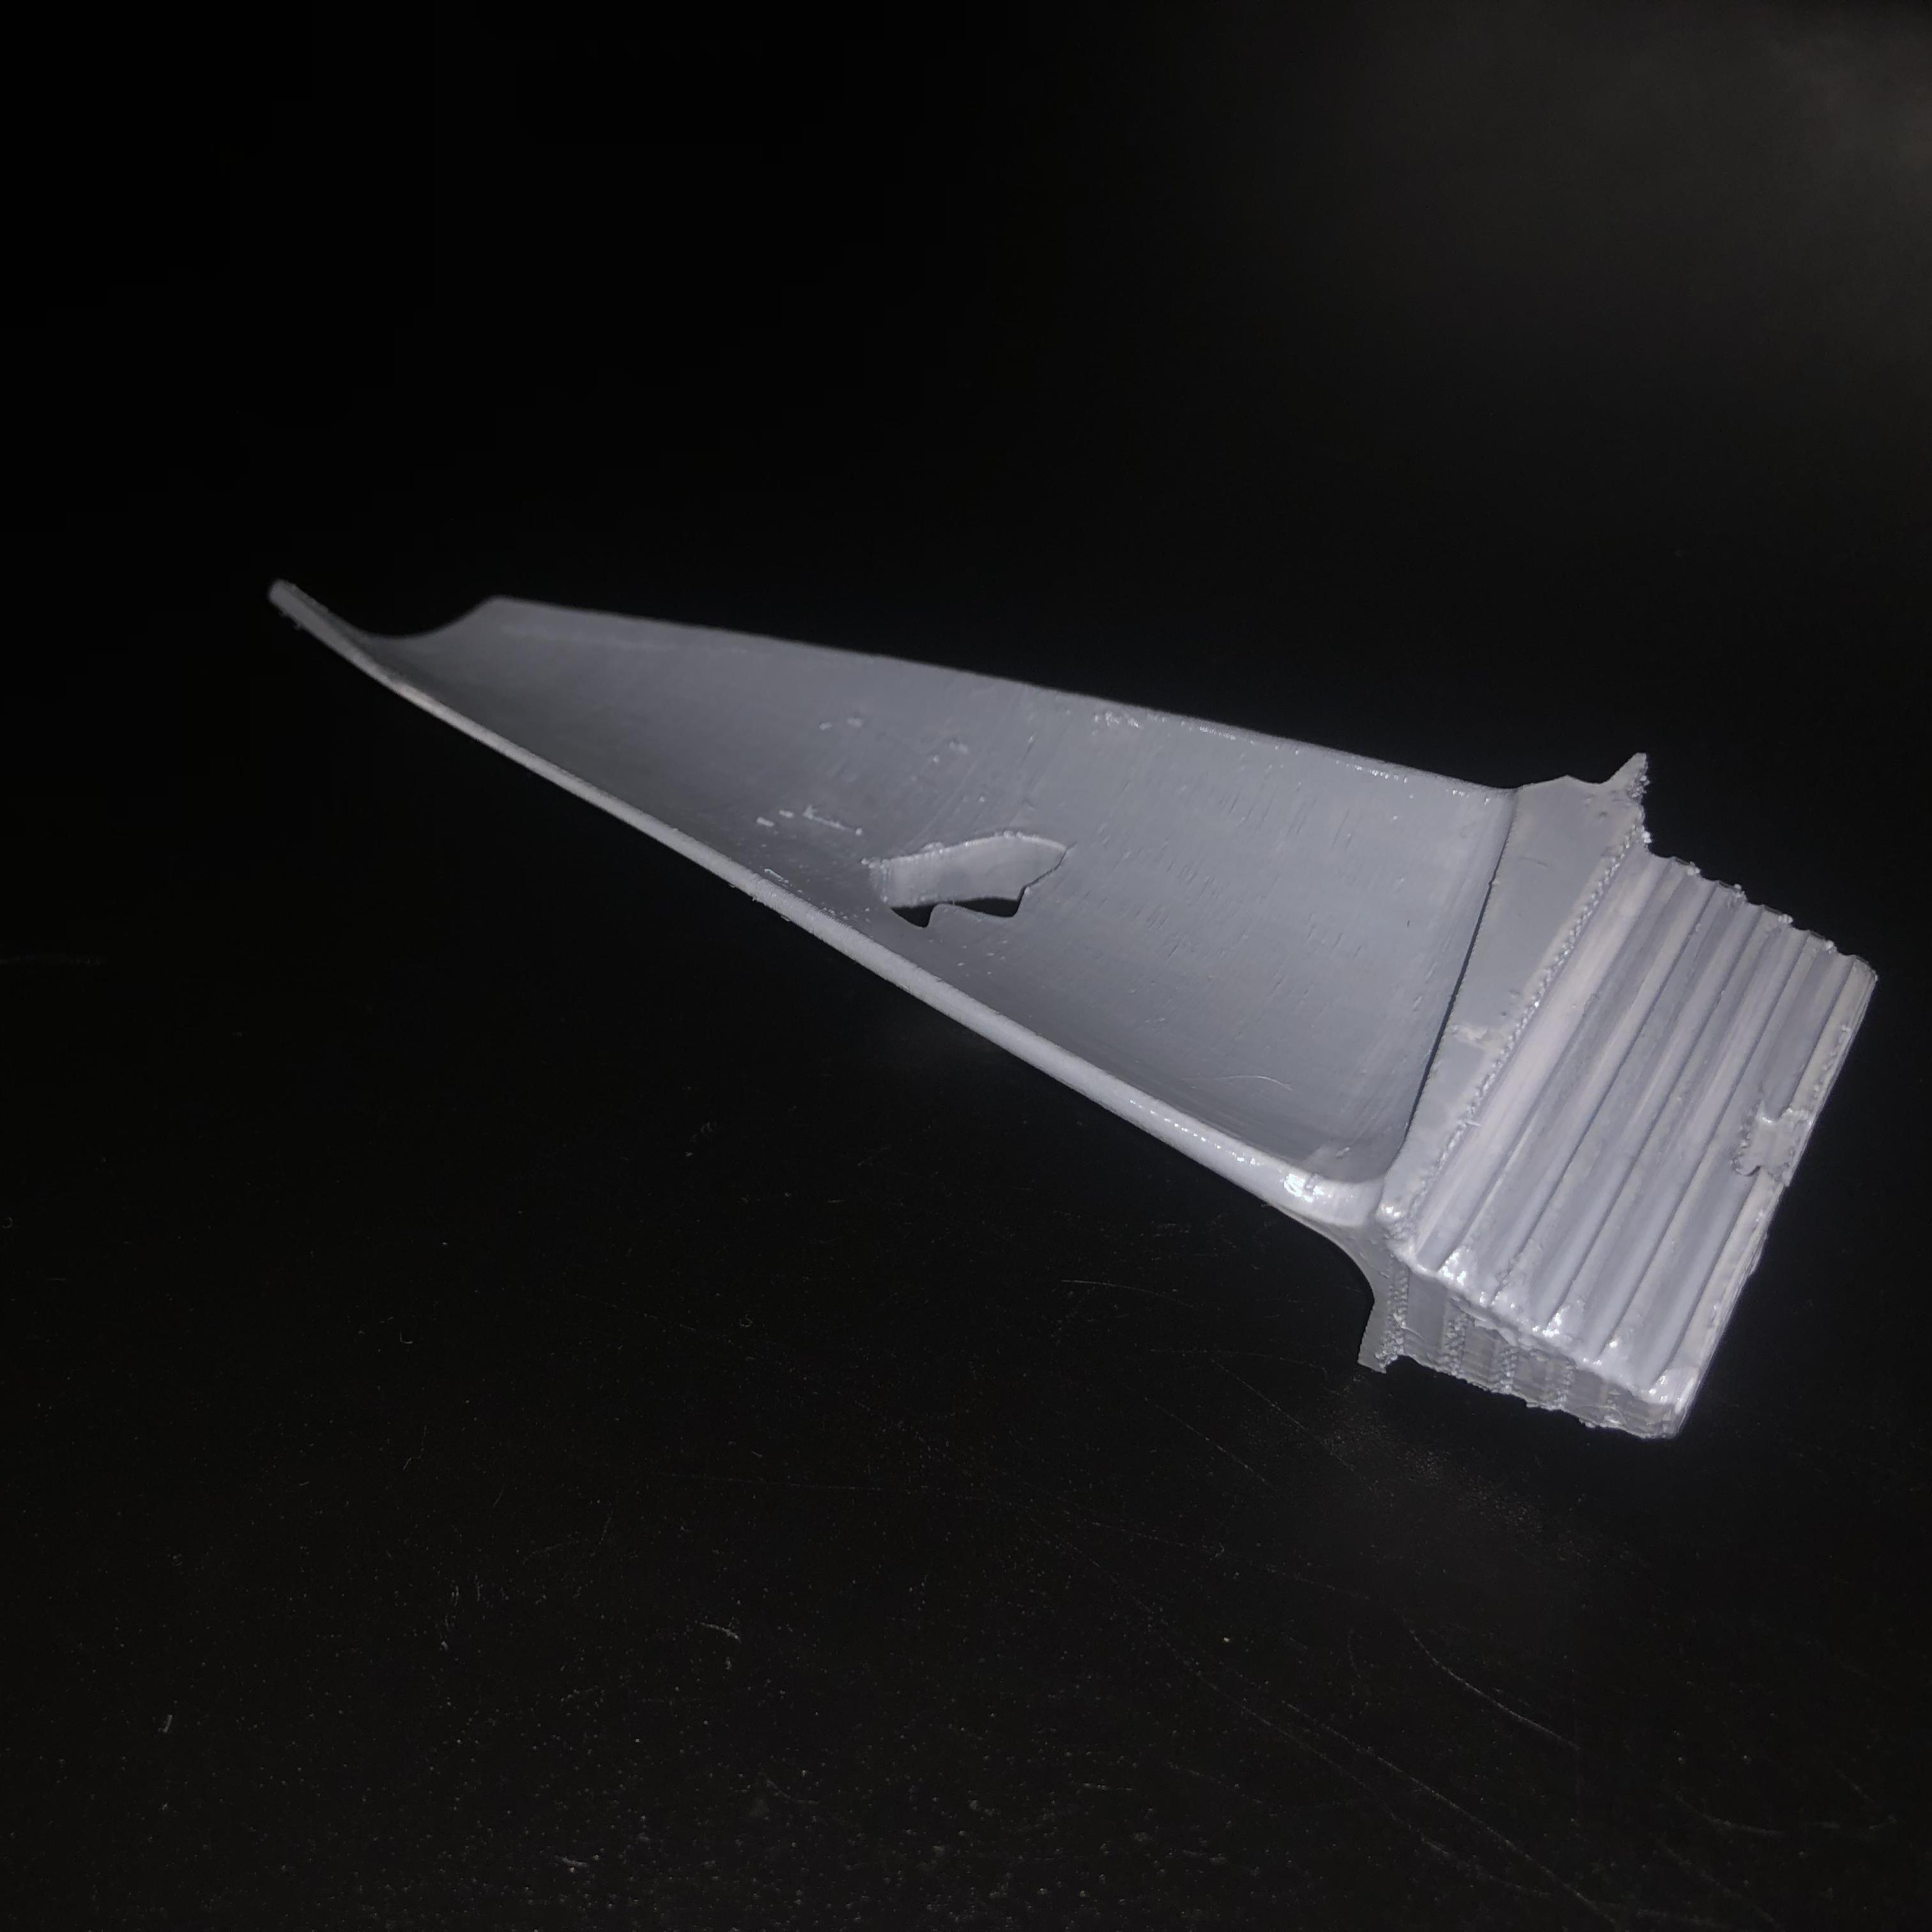breakdown: (862, 823, 1086, 927)
